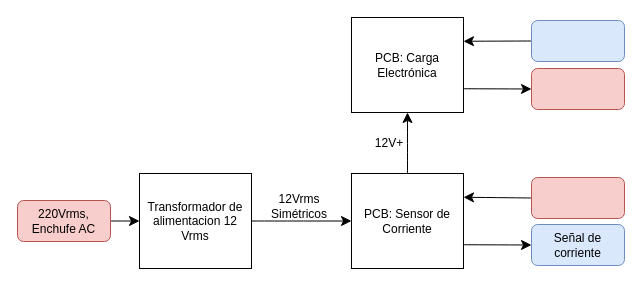
Some shapes in this 642 by 286 pixel diagram are drawn without their labels. The shapes that lost their labels are listed below. From the top down, each one's centre as x and y in pixels, then its label:
[577,41]: Señal de carga
[577,89]: Armadura generador
[577,197]: Armadura motor
